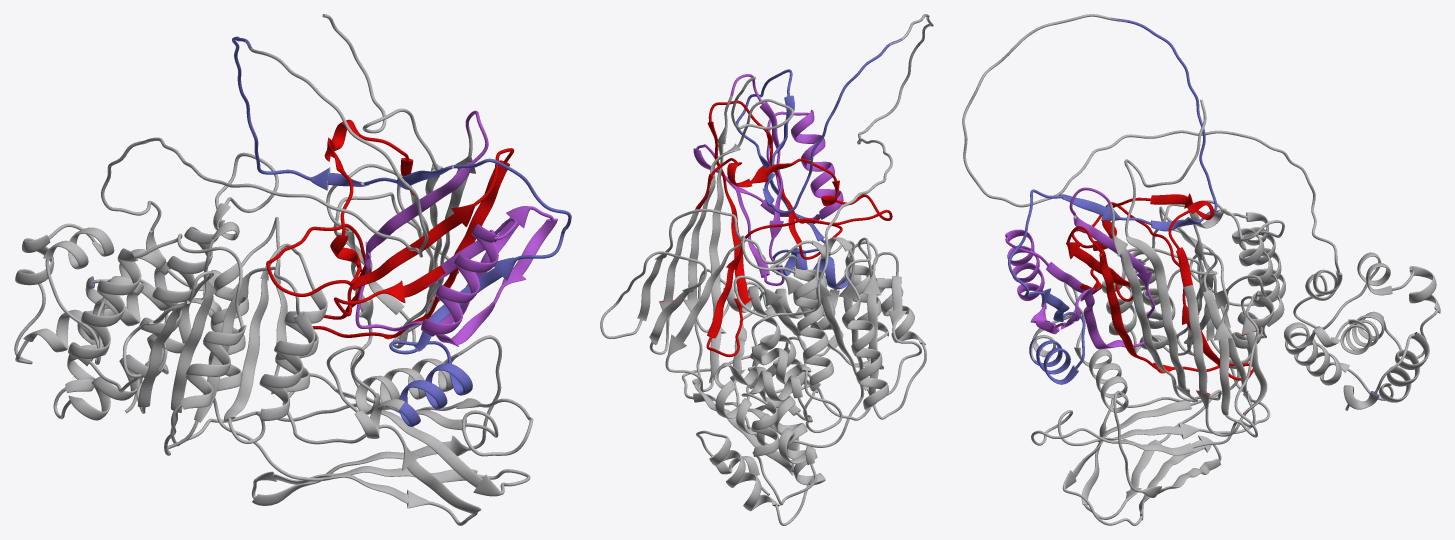
Rendered from protein63.glb.
3 views of the same model, side by side, from view 1: azimuth 30°, elevation 25°; view 2: azimuth 150°, elevation 25°; view 3: azimuth 270°, elevation 25° (orthographic). The views are drawn at different scales.
Parts seen in each view (by area): view 1: subnode_13, subnode_2, subnode_3, subnode_18, subnode_19, subnode_24, subnode_12, subnode_11, subnode_15, subnode_10, subnode_16, subnode_1 (+14 smaller); view 2: subnode_11, subnode_10, subnode_24, subnode_1, subnode_25, subnode_2, subnode_7, subnode_23, subnode_4, subnode_6, subnode_22, subnode_0 (+15 smaller); view 3: subnode_6, subnode_1, subnode_0, subnode_7, subnode_2, subnode_25, subnode_24, subnode_8, subnode_20, subnode_23, subnode_5, subnode_4 (+14 smaller).
Boxes of the visible parts, x1=… form: subnode_13: x1=222, y1=266, x2=314, y2=443; subnode_2: x1=414, y1=206, x2=557, y2=346; subnode_3: x1=334, y1=148, x2=517, y2=316; subnode_18: x1=326, y1=335, x2=502, y2=438; subnode_19: x1=389, y1=165, x2=571, y2=426; subnode_24: x1=16, y1=261, x2=221, y2=376; subnode_12: x1=156, y1=233, x2=246, y2=455; subnode_11: x1=68, y1=246, x2=213, y2=392; subnode_15: x1=208, y1=276, x2=481, y2=525; subnode_10: x1=136, y1=156, x2=239, y2=413; subnode_16: x1=282, y1=373, x2=530, y2=496; subnode_1: x1=355, y1=110, x2=488, y2=331; subnode_11: x1=842, y1=252, x2=921, y2=410; subnode_10: x1=742, y1=246, x2=878, y2=420; subnode_24: x1=714, y1=362, x2=816, y2=479; subnode_1: x1=709, y1=74, x2=784, y2=301; subnode_25: x1=696, y1=423, x2=825, y2=525; subnode_2: x1=693, y1=134, x2=843, y2=263; subnode_7: x1=624, y1=209, x2=742, y2=391; subnode_23: x1=741, y1=370, x2=841, y2=505; subnode_4: x1=706, y1=104, x2=803, y2=357; subnode_6: x1=600, y1=208, x2=706, y2=354; subnode_22: x1=751, y1=179, x2=885, y2=418; subnode_0: x1=683, y1=77, x2=793, y2=332; subnode_6: x1=1183, y1=285, x2=1267, y2=437; subnode_1: x1=1069, y1=187, x2=1175, y2=380; subnode_0: x1=1124, y1=99, x2=1206, y2=401; subnode_7: x1=1192, y1=249, x2=1255, y2=448; subnode_2: x1=1007, y1=245, x2=1123, y2=349; subnode_25: x1=1294, y1=332, x2=1429, y2=402; subnode_24: x1=1284, y1=311, x2=1387, y2=365; subnode_8: x1=1031, y1=410, x2=1245, y2=455; subnode_20: x1=1030, y1=17, x2=1217, y2=231; subnode_23: x1=1294, y1=252, x2=1440, y2=359; subnode_5: x1=1072, y1=193, x2=1214, y2=286; subnode_4: x1=1090, y1=236, x2=1253, y2=380.
Bounding box in the file's own units: 63.03 × 85.3 × 86.79.
